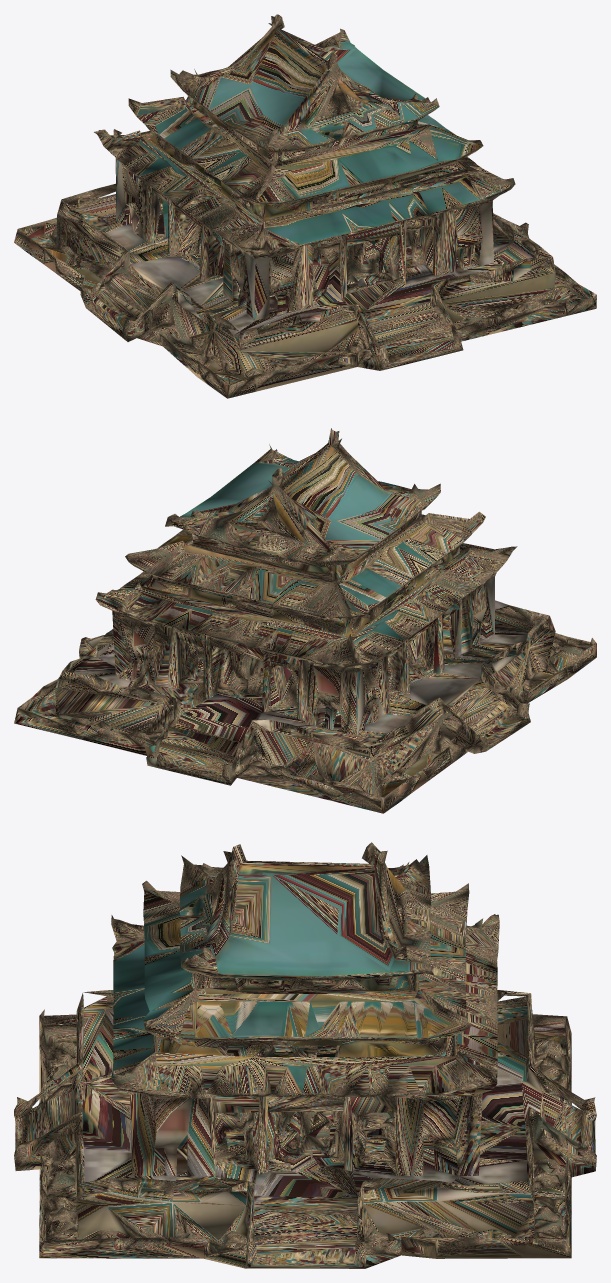
File: bq_thunder_hall.lod.glb
The picture shows the model from 3 angles, top to bottom: view 1: azimuth 30°, elevation 25°; view 2: azimuth 150°, elevation 25°; view 3: azimuth 270°, elevation 25°; orthographic projection. The views are drawn at different scales.
Size of the model in its own units: 1.89 by 1.09 by 1.89.
Materials: 1 (1 with a texture image).
